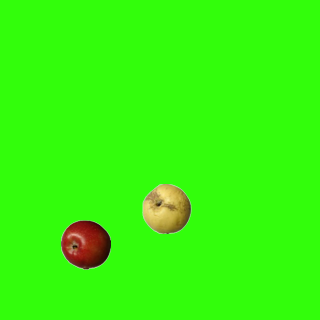Apple Braeburn: (60, 219, 110, 269)
Apple Golden 1: (141, 183, 191, 233)
